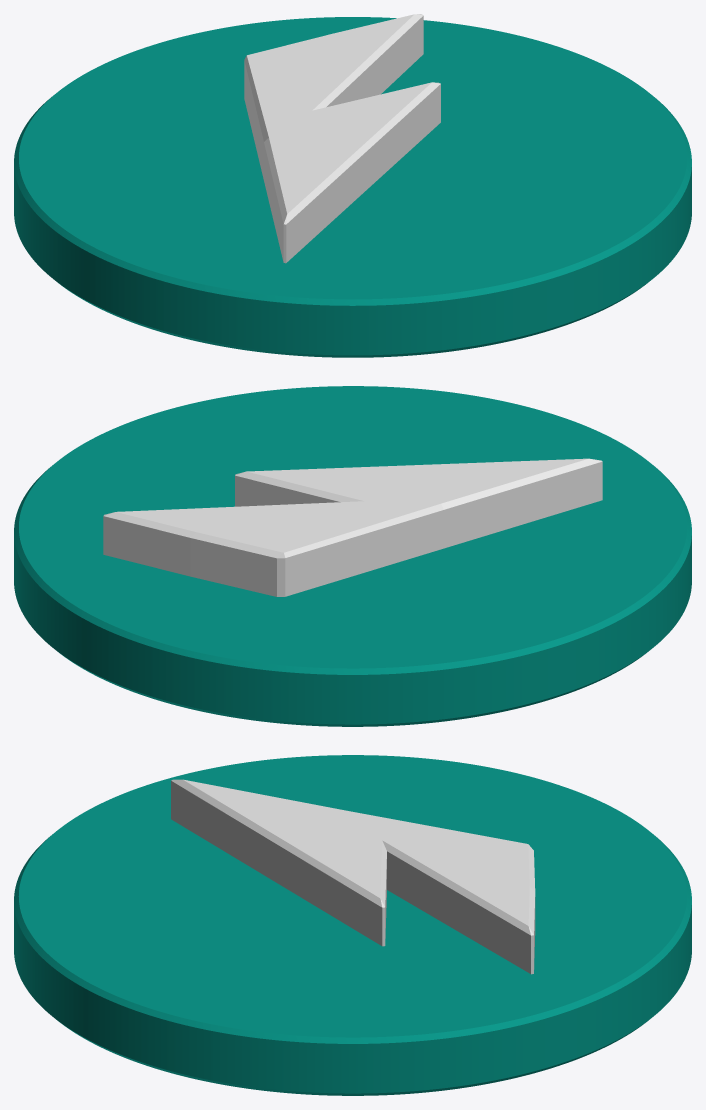
File: fastapi_icon.glb
3 views of the same model, one above another, from view 1: azimuth 30°, elevation 25°; view 2: azimuth 150°, elevation 25°; view 3: azimuth 270°, elevation 25° (orthographic).
Parts seen in each view (by area): view 1: Círculo, Plano; view 2: Círculo, Plano; view 3: Círculo, Plano.
Part boxes in pixels (left/top/right/bottom): Círculo: left=14, top=17, right=691, bottom=357; Plano: left=244, top=14, right=440, bottom=263; Círculo: left=14, top=386, right=691, bottom=726; Plano: left=103, top=458, right=602, bottom=596; Círculo: left=14, top=755, right=691, bottom=1095; Plano: left=171, top=779, right=535, bottom=974.
Bounding box in the file's own units: 3.23 × 0.5342 × 3.23.
